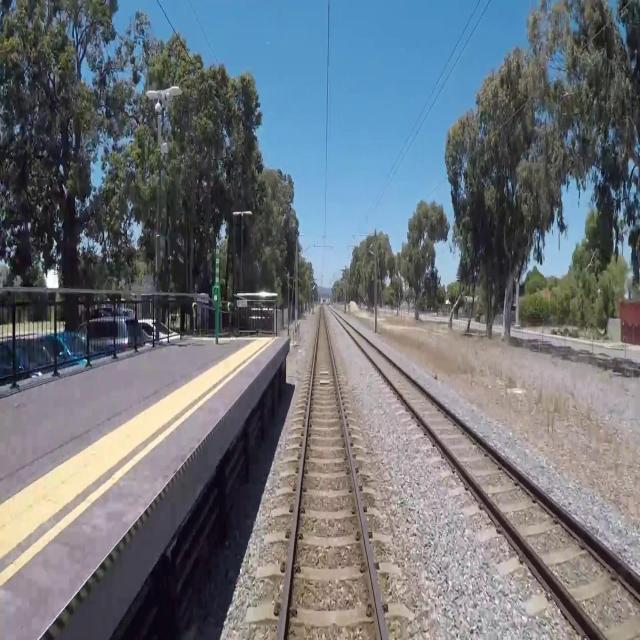rail-track: (340, 319, 640, 639), (285, 308, 381, 639)
